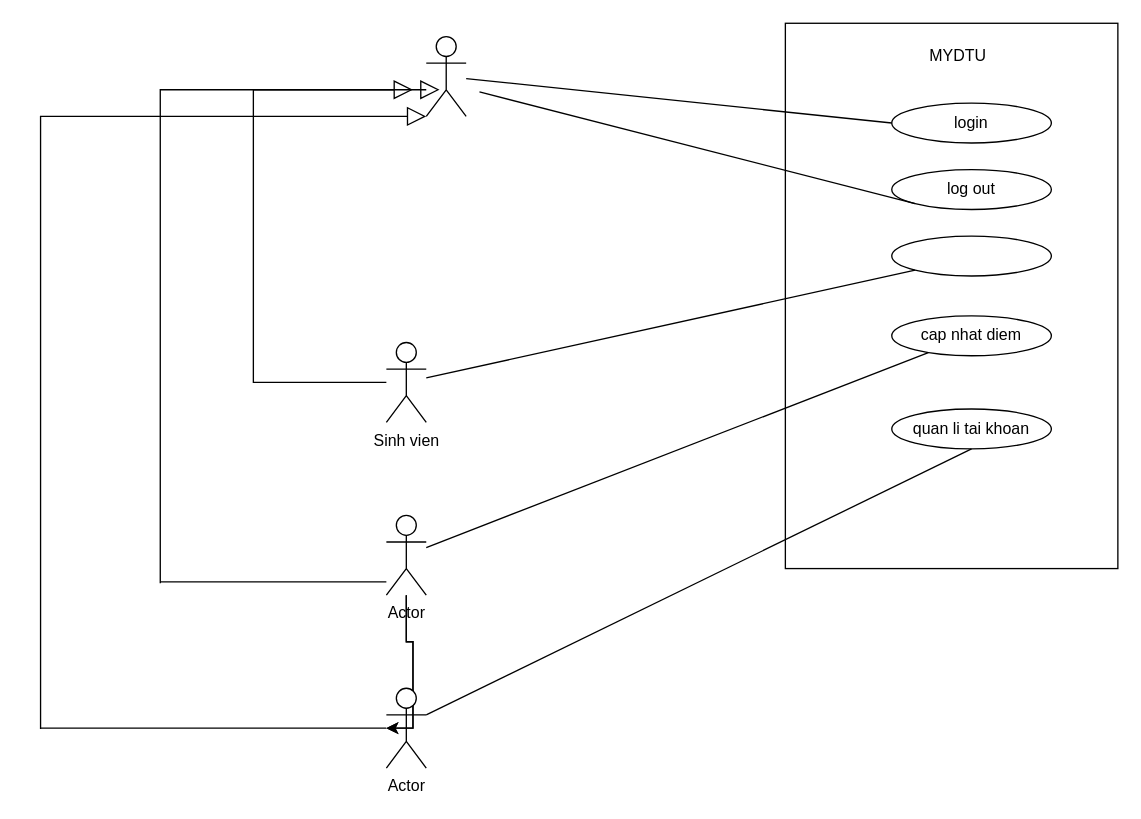
This 1141x819 diagram has some shape labels left out. The centre of each missing label's shape, as x and y in pixels:
"Web client" goes at [445,75].
"xem lich hoc" goes at [970,255].
